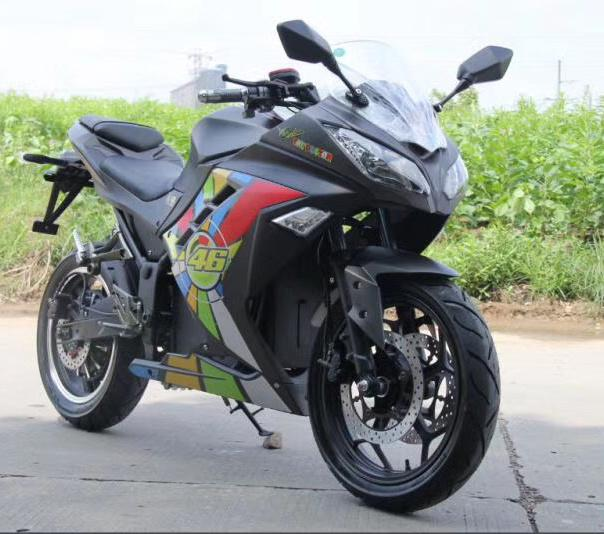Car: (15, 1, 509, 516)
